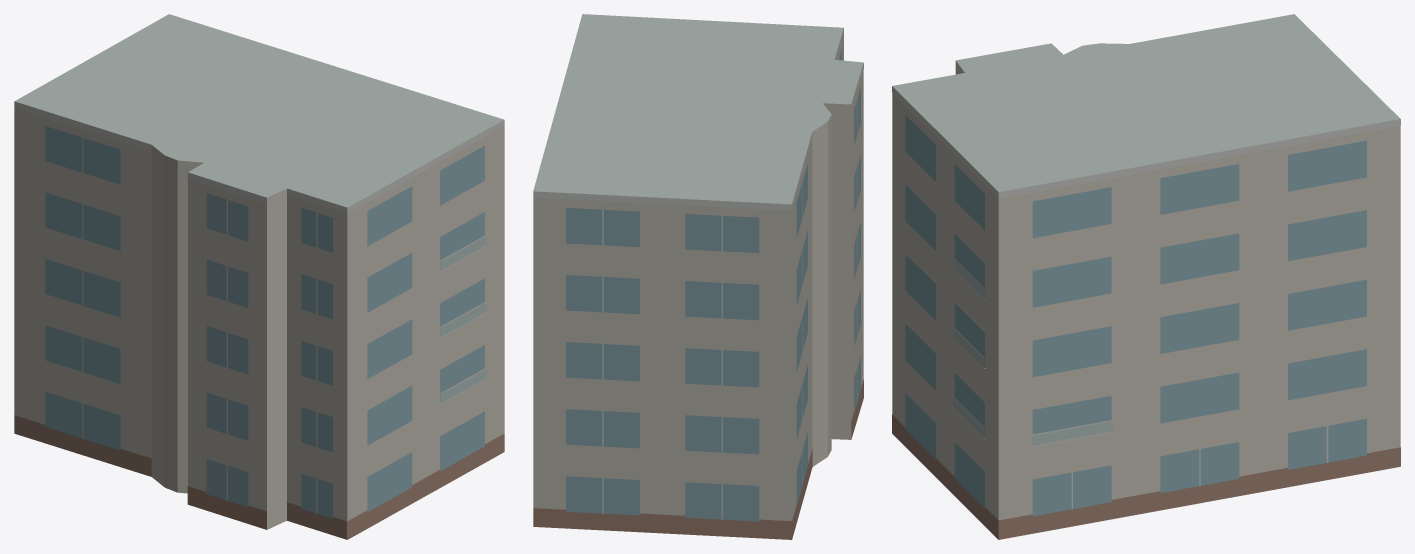
File: survey-upis-32586042.glb
The picture shows the model from 3 angles, left to right: view 1: azimuth 30°, elevation 25°; view 2: azimuth 150°, elevation 25°; view 3: azimuth 270°, elevation 25°; orthographic projection. The views are drawn at different scales.
Visible parts, largest first — view 1: survey-upis-32586042.tmp; view 2: survey-upis-32586042.tmp; view 3: survey-upis-32586042.tmp.
Part boxes in pixels (left/top/right/bottom): survey-upis-32586042.tmp: left=14, top=14, right=504, bottom=539; survey-upis-32586042.tmp: left=533, top=14, right=863, bottom=539; survey-upis-32586042.tmp: left=892, top=14, right=1400, bottom=539.
Size of the model in its own units: 14.19 by 12.9 by 17.11.
